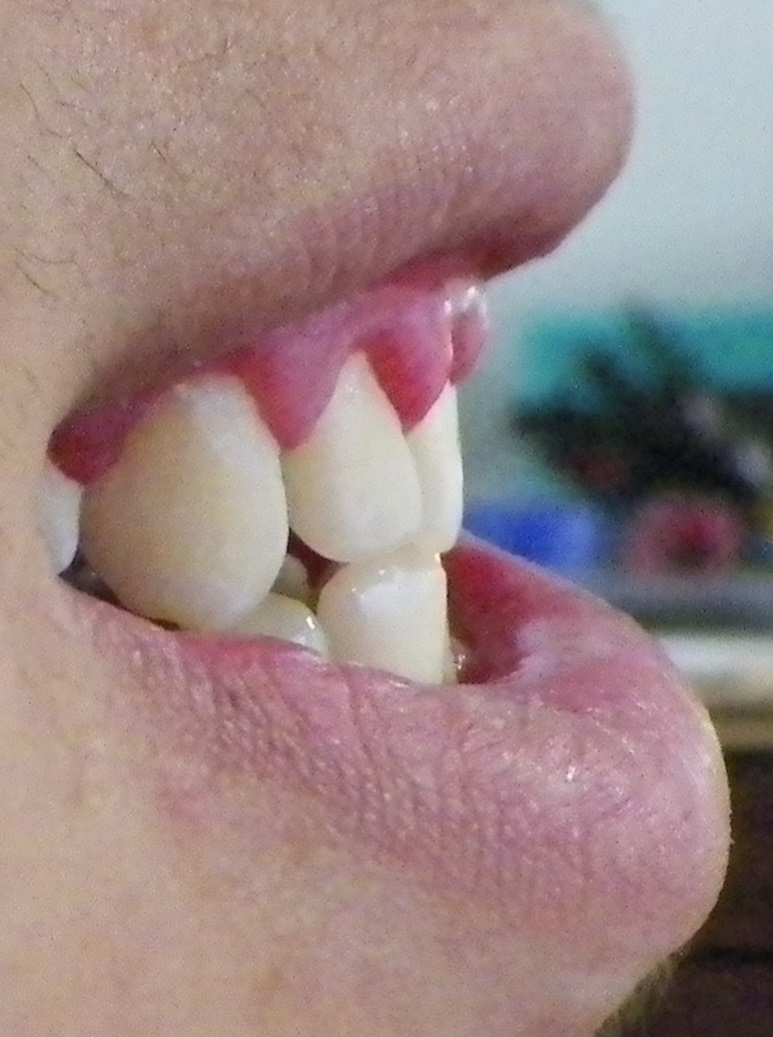boca: (57, 325, 498, 680)
